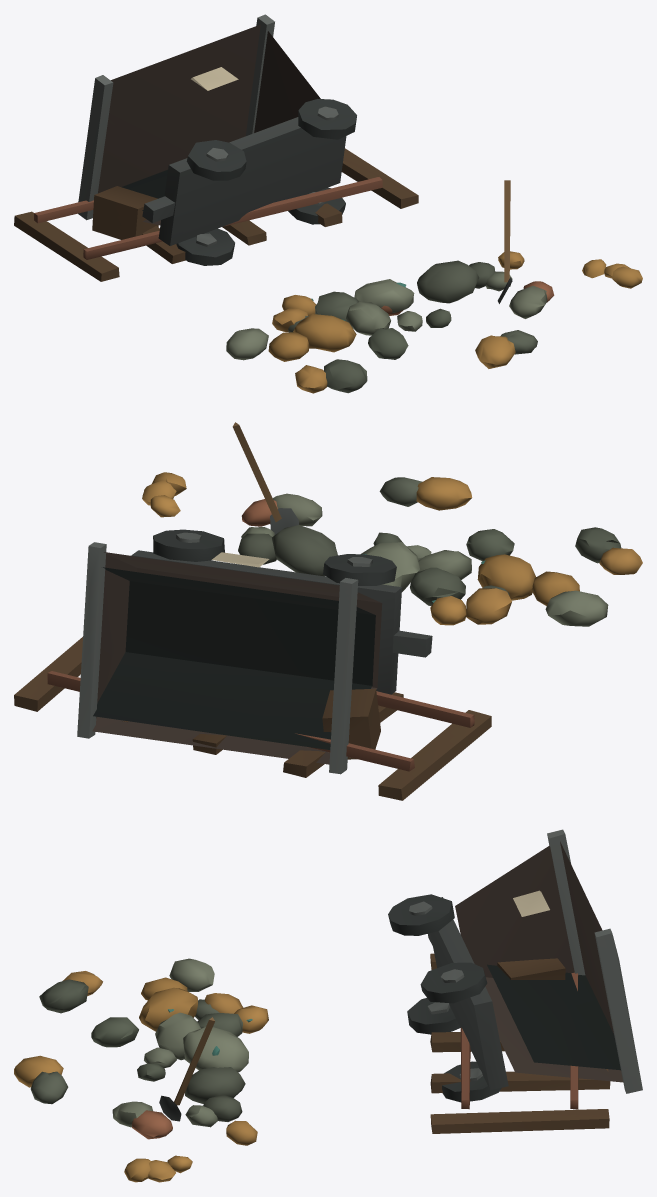
Rendered from ore_car_a_lod2.glb.
3 views of the same model, one above another, from view 1: azimuth 30°, elevation 25°; view 2: azimuth 150°, elevation 25°; view 3: azimuth 270°, elevation 25° (orthographic). The views are drawn at different scales.
Visible parts, largest first — view 1: Surface.001; view 2: Surface.001; view 3: Surface.001.
Boxes of the visible parts, x1,y1,x2,y2 form: Surface.001: (14, 14, 642, 393); Surface.001: (14, 422, 642, 800); Surface.001: (14, 829, 642, 1182).
Bounding box in the file's own units: 5.83 × 2.08 × 6.94.
